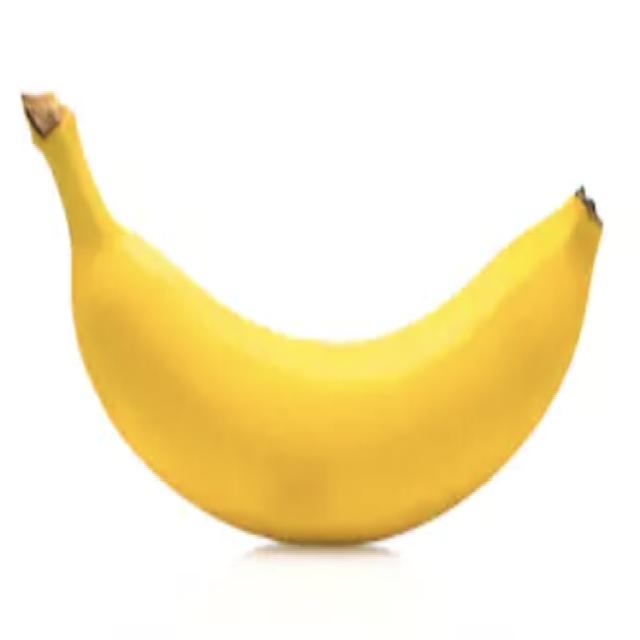fresh-banana: (19, 87, 604, 547)
